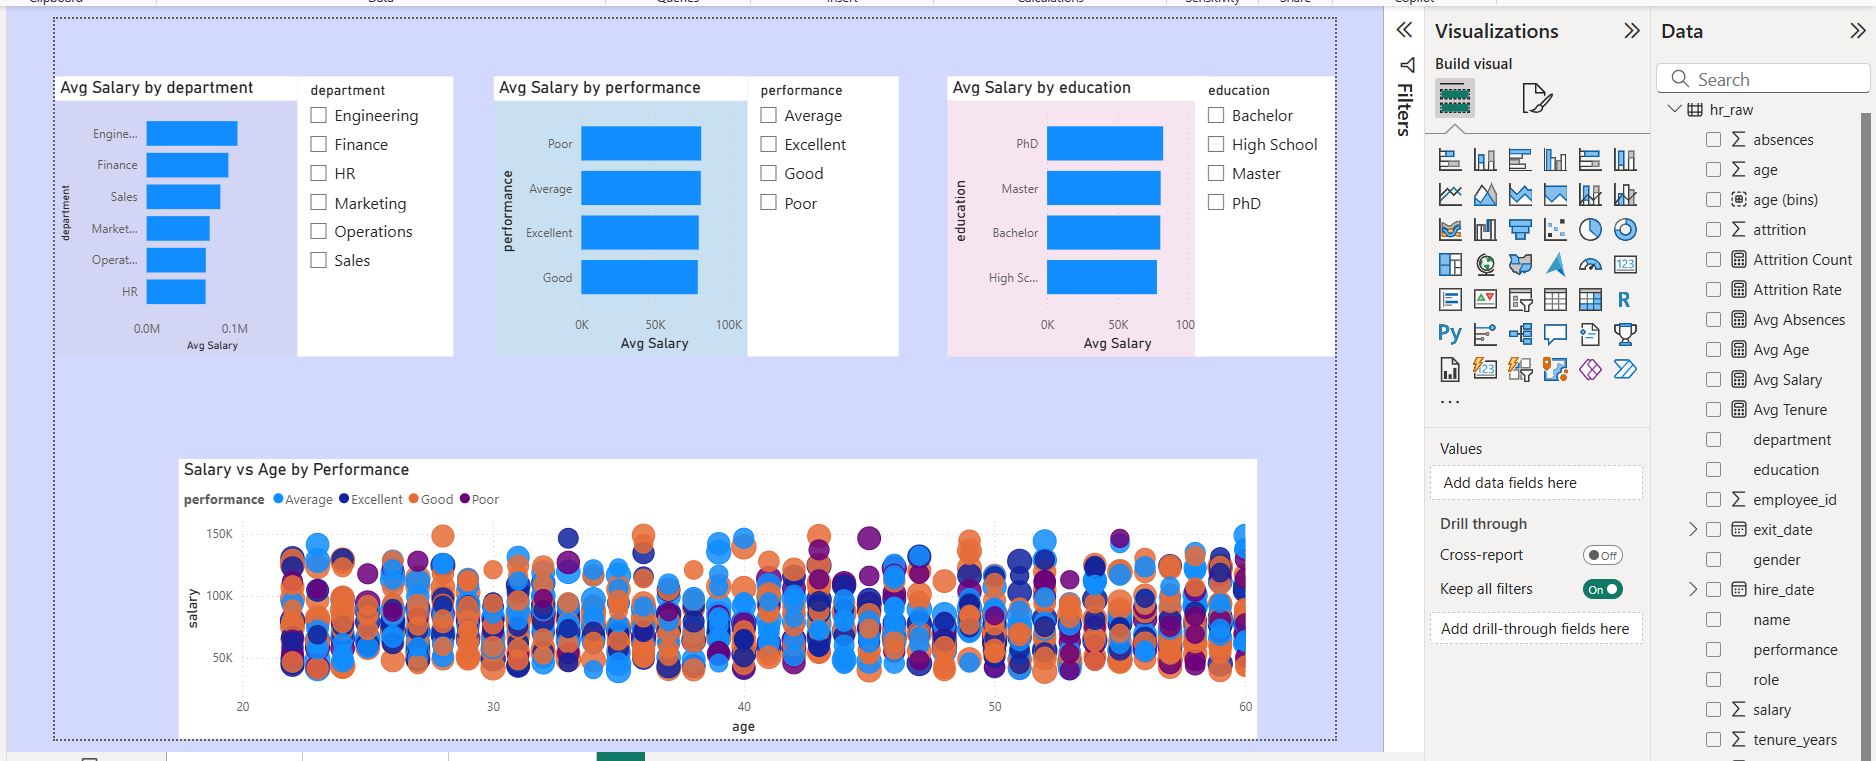

What the dashboard file says about the page in this screenshot:
{"tool":"powerbi","page":{"name":"salary analysis","canvas":[1280,720],"ordinal":2},"visuals":[{"type":"clusteredBarChart","fields":{"Category":["hr_raw.department"],"Y":["hr_raw.Avg Salary"]},"box":[0,57.5,242.5,280],"z":0},{"type":"clusteredBarChart","fields":{"Category":["hr_raw.performance"],"Y":["hr_raw.Avg Salary"]},"box":[438.8,57.5,253.8,280],"z":1000},{"type":"scatterChart","title":"Salary vs Age by Performance","fields":{"Y":["hr_raw.salary"],"Series":["hr_raw.performance"],"X":["hr_raw.age"],"Size":["Sum(hr_raw.employee_id)"]},"box":[123.8,440,1078.8,280],"z":2000},{"type":"clusteredBarChart","fields":{"Category":["hr_raw.education"],"Y":["hr_raw.Avg Salary"]},"box":[892.5,57.5,260,280],"z":3000},{"type":"slicer","fields":{"Values":["hr_raw.department"]},"box":[242.5,57.5,156.2,280],"z":3001},{"type":"slicer","fields":{"Values":["hr_raw.performance"]},"box":[692.5,57.5,151.2,280],"z":3002},{"type":"slicer","fields":{"Values":["hr_raw.education"]},"box":[1140,57.5,140,280],"z":3003},{"type":"pageNavigator","box":[340,0,600,50],"z":3004}]}

Visuals, with their boxes on the page's 1280x720 design canvas (x1, y1, x2, y2). These are canvas units, not pixel positions in the 1876x761 screenshot, which may show the page scaled, cropped or inside an application window:
clusteredBarChart - hr_raw.department x hr_raw.Avg Salary: Rect(0, 58, 242, 338)
clusteredBarChart - hr_raw.performance x hr_raw.Avg Salary: Rect(439, 58, 693, 338)
"Salary vs Age by Performance" scatterChart: Rect(124, 440, 1203, 720)
clusteredBarChart - hr_raw.education x hr_raw.Avg Salary: Rect(892, 58, 1152, 338)
slicer - hr_raw.department: Rect(242, 58, 399, 338)
slicer - hr_raw.performance: Rect(692, 58, 844, 338)
slicer - hr_raw.education: Rect(1140, 58, 1280, 338)
pageNavigator: Rect(340, 0, 940, 50)
